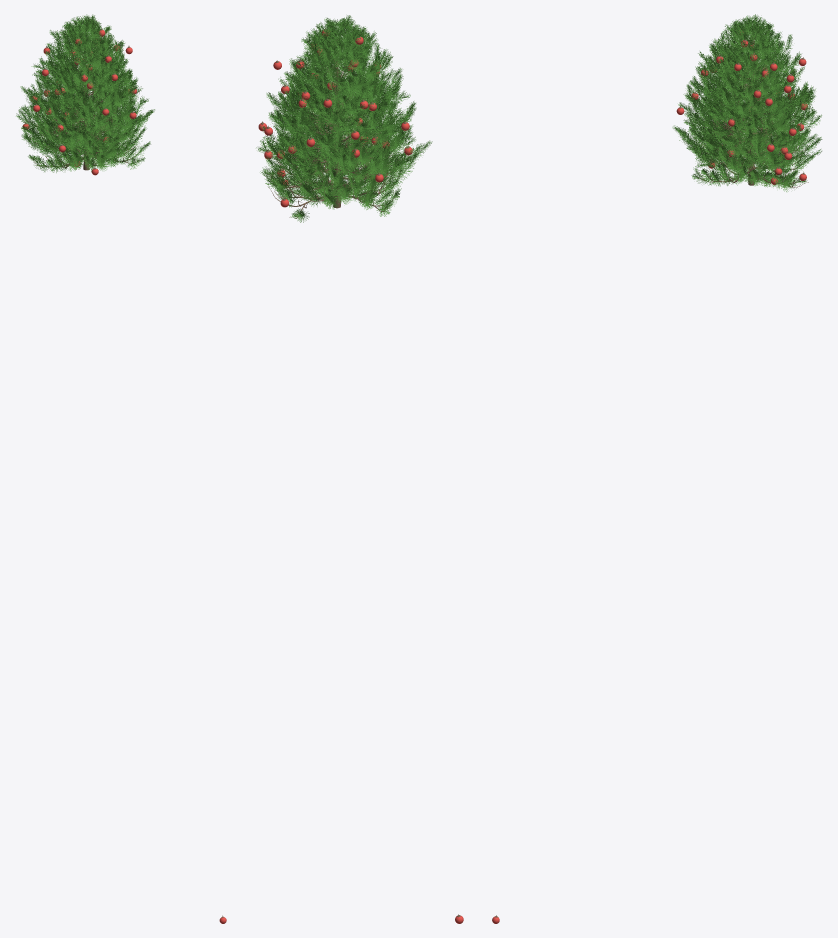
The model's file is brad.fbx.
3 renders of one model, left to right at view 1: azimuth 30°, elevation 25°; view 2: azimuth 150°, elevation 25°; view 3: azimuth 270°, elevation 25°, orthographic. The views are drawn at different scales.
Parts seen in each view (by area): view 1: leaves, tree; view 2: leaves, tree; view 3: leaves, tree.
Boxes of the visible parts, box(x1,y1,x2,y2) form: leaves: box(16, 14, 154, 172); tree: box(30, 54, 139, 170); leaves: box(256, 15, 432, 222); tree: box(267, 39, 401, 218); leaves: box(672, 14, 822, 191); tree: box(694, 37, 810, 187).
Size of the model in its own units: 425 by 2805 by 941.
